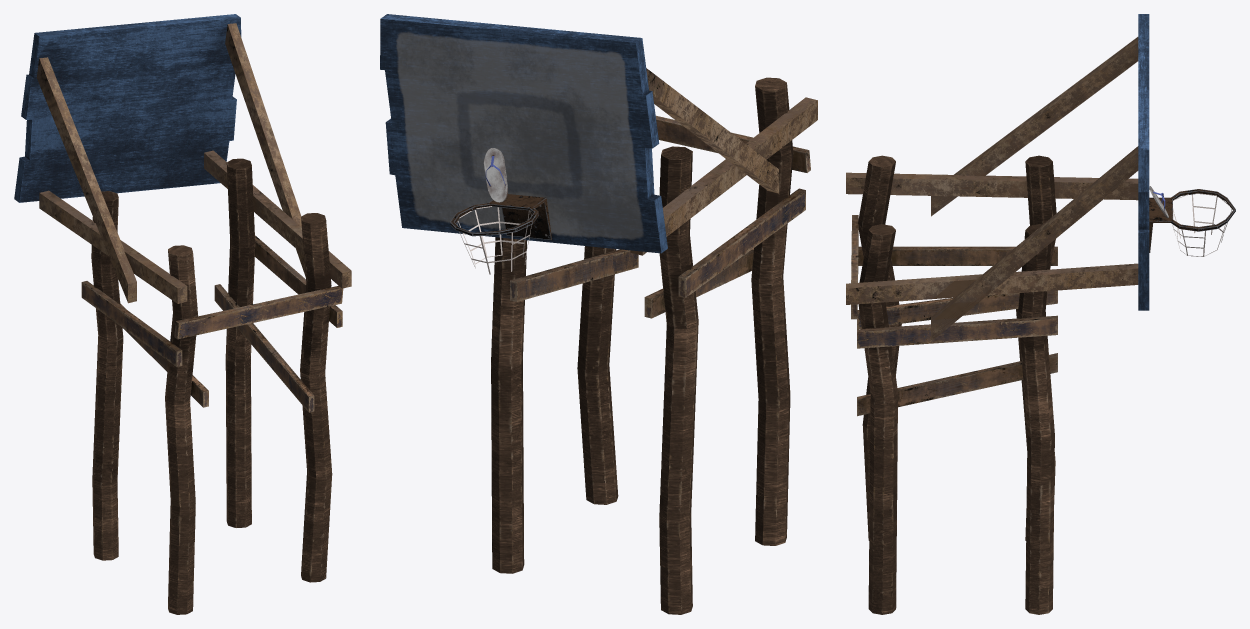
Rendered from Basketball Ring 1.glb.
The picture shows the model from 3 angles, left to right: view 1: azimuth 30°, elevation 25°; view 2: azimuth 150°, elevation 25°; view 3: azimuth 270°, elevation 25°; orthographic projection. The views are drawn at different scales.
Visible parts, largest first — view 1: Pillars.001, Board.001, Back Support.001, Stand Support.001; view 2: Board.001, Pillars.001, Stand Support.001, Back Support.001, Ring.001, Plane.002, Circle; view 3: Pillars.001, Back Support.001, Stand Support.001, Board.001, Ring.001, Circle.
Part boxes in pixels (bbox=[...]): Pillars.001: bbox=[91, 158, 332, 614]; Board.001: bbox=[14, 14, 241, 202]; Back Support.001: bbox=[36, 23, 351, 303]; Stand Support.001: bbox=[81, 235, 343, 412]; Board.001: bbox=[380, 14, 667, 253]; Pillars.001: bbox=[491, 77, 793, 614]; Stand Support.001: bbox=[510, 115, 810, 318]; Back Support.001: bbox=[630, 68, 817, 255]; Ring.001: bbox=[450, 194, 551, 240]; Plane.002: bbox=[483, 148, 507, 202]; Circle: bbox=[457, 206, 531, 274]; Pillars.001: bbox=[858, 155, 1056, 614]; Back Support.001: bbox=[846, 37, 1138, 341]; Stand Support.001: bbox=[851, 215, 1057, 416]; Board.001: bbox=[1138, 14, 1149, 310]; Ring.001: bbox=[1149, 189, 1235, 252]; Circle: bbox=[1172, 193, 1231, 256].
Bounding box in the file's own units: 4.16 × 8.76 × 6.
Materials: 8 (7 with a texture image).
